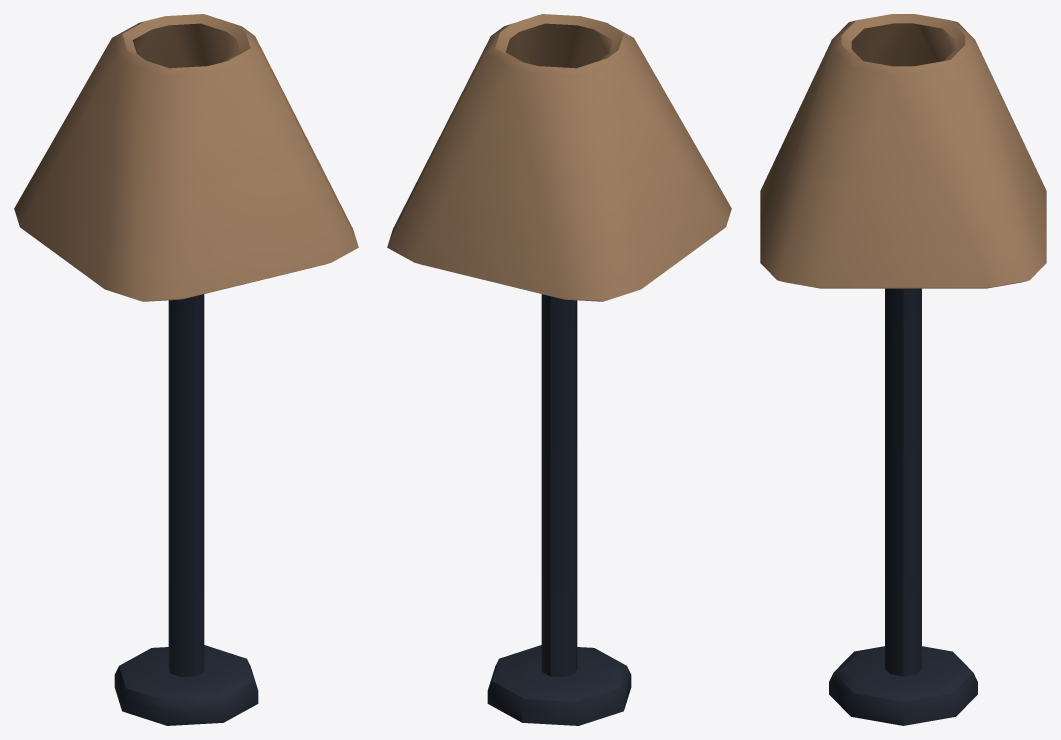
The model's file is lamp_standing.obj.
3 renders of one model, left to right at view 1: azimuth 30°, elevation 25°; view 2: azimuth 150°, elevation 25°; view 3: azimuth 270°, elevation 25°, orthographic.
Visible parts, largest first — view 1: lamp_standing_Sphere.002; view 2: lamp_standing_Sphere.002; view 3: lamp_standing_Sphere.002.
Part boxes in pixels (x1,y1,x2,y2): lamp_standing_Sphere.002: (14, 14, 358, 725); lamp_standing_Sphere.002: (387, 14, 731, 725); lamp_standing_Sphere.002: (760, 14, 1046, 725).
Bounding box in the file's own units: 1 × 2.52 × 1.
Materials: 1 (1 with a texture image).
